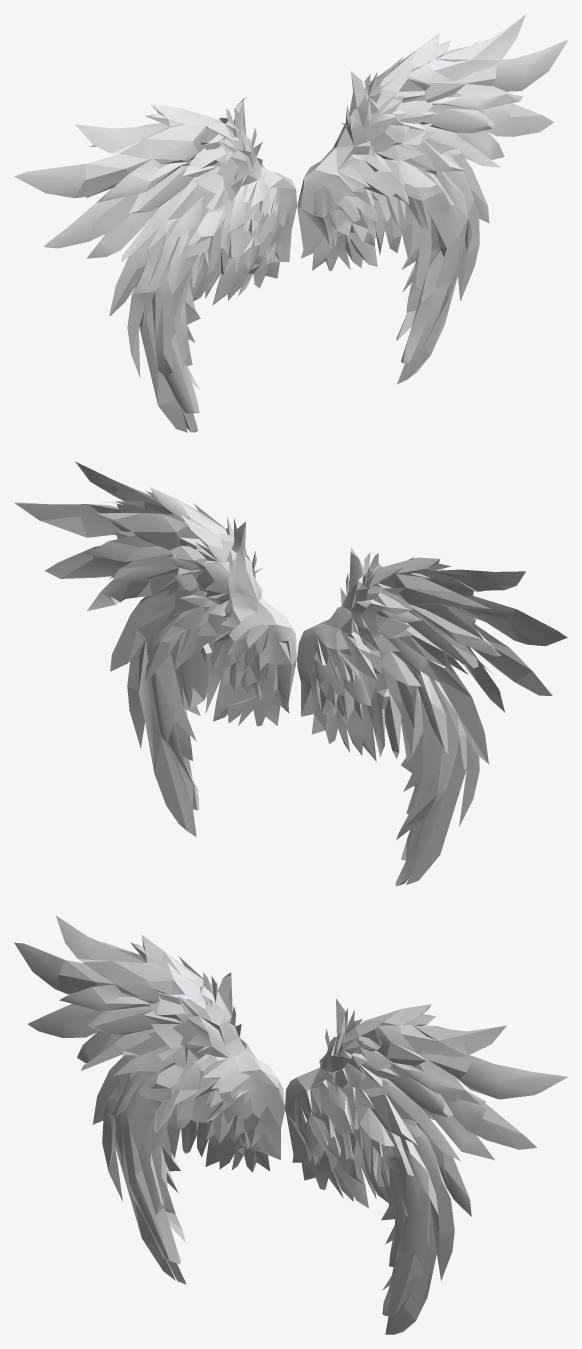
File: angel_wings.glb
3 views of the same model, one above another, from view 1: azimuth 30°, elevation 25°; view 2: azimuth 150°, elevation 25°; view 3: azimuth 330°, elevation 25° (orthographic).
Bounding box in the file's own units: 1.9 × 1.12 × 0.1935.
Materials: 1 (1 with a texture image).
